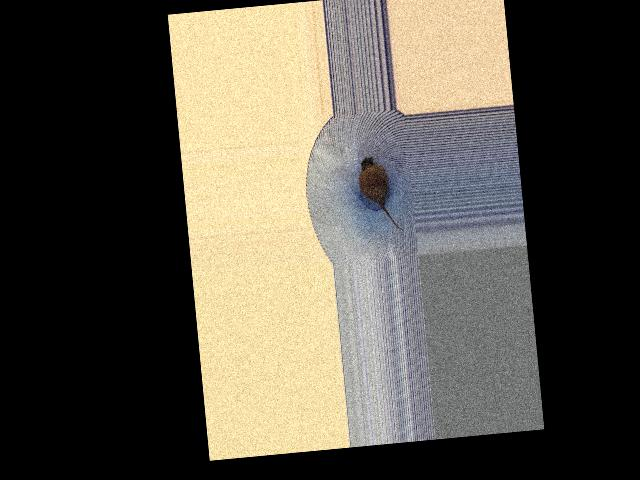beet: (357, 154, 403, 233)
